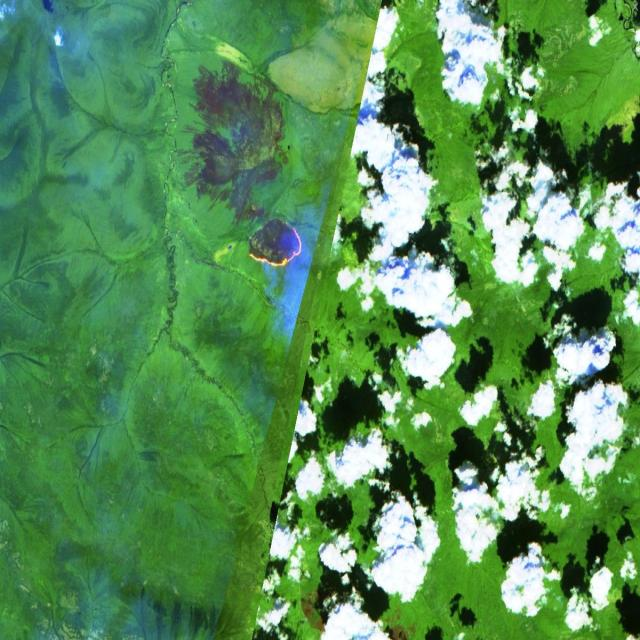fire: (244, 211, 305, 272)
